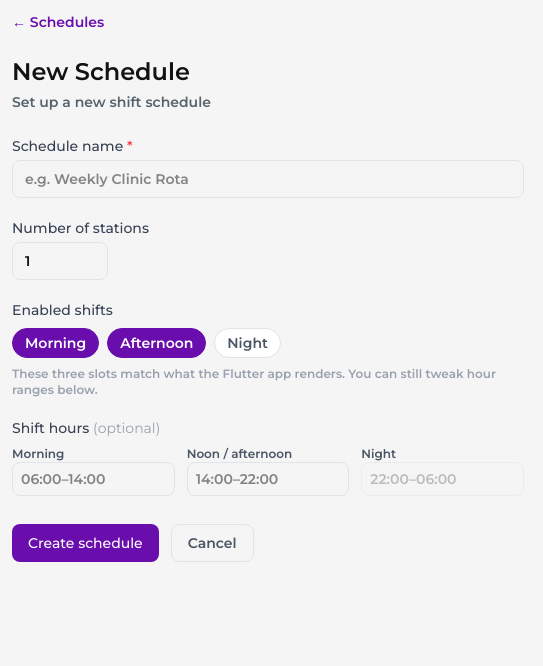
NewSchedulePage duplicate name check › blocks creation when the name differs only in casing (case-insensitive check)
// Uppercase version of the existing name
Type "WEEKLY CLINIC ROTA" into the field with placeholder "e.g. Weekly Clinic Rota" at [268, 179], box [12, 160, 524, 198]
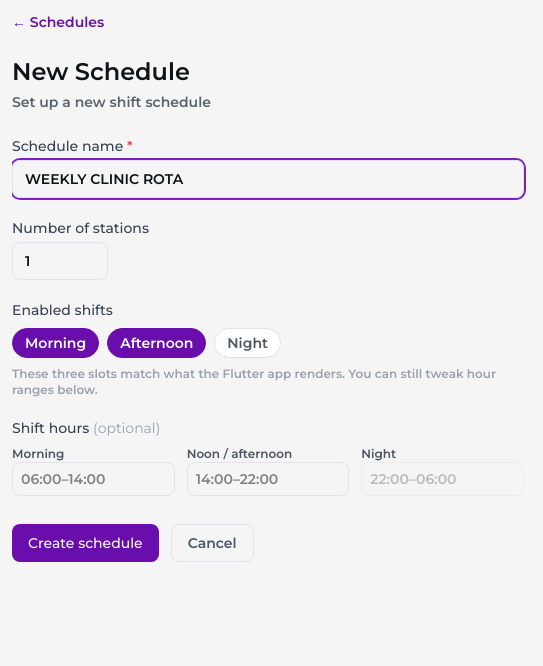
Click the button "Create schedule" at [85, 543], box [12, 524, 159, 562]
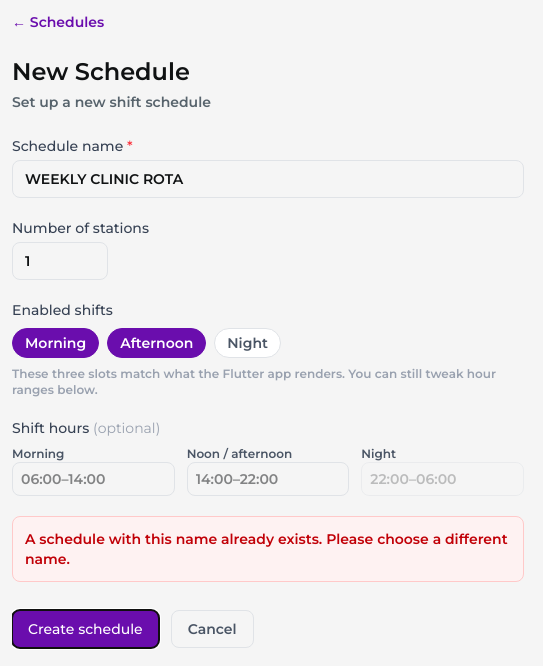
Now the text "A schedule with this name already exists. Please choose a different name." is shown, box [12, 516, 524, 582]
